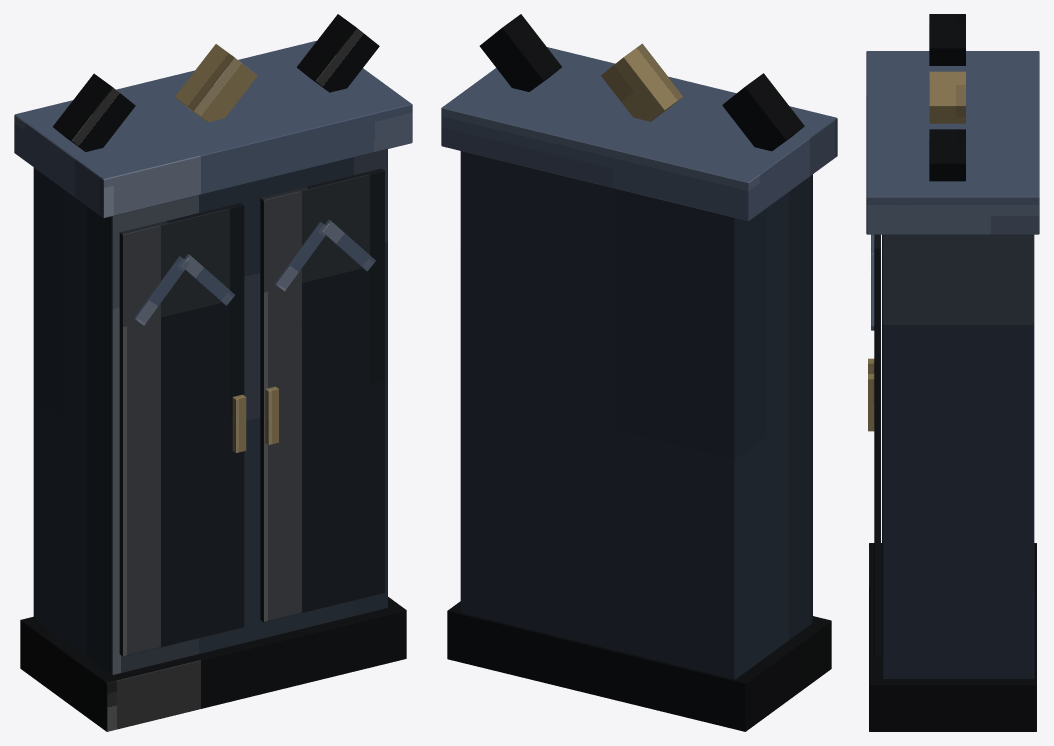
Rendered from gothic_wardrobe_midnight.glb.
3 renders of one model, left to right at view 1: azimuth 30°, elevation 25°; view 2: azimuth 150°, elevation 25°; view 3: azimuth 270°, elevation 25°, orthographic. The views are drawn at different scales.
Parts seen in each view (by area): view 1: WardrobeBody, WardrobeDoor_1, WardrobeDoor_2, WardrobeCrown, WardrobePlinth, CrownSpire0.0, CrownSpire-0.52, CrownSpire0.52, WardrobeArch_1Left, WardrobeArch_2Left, WardrobeArch_2Right, WardrobeArch_1Right (+2 smaller); view 2: WardrobeBody, WardrobeCrown, WardrobePlinth, CrownSpire0.0, CrownSpire0.52, CrownSpire-0.52; view 3: WardrobeBody, WardrobeCrown, WardrobePlinth, WardrobeDoor_2, CrownSpire0.0, CrownSpire0.52, CrownSpire-0.52, WardrobeHandle_2, WardrobeArch_2Right.
Part boxes in pixels (box(x1,y1,x2,y2)): WardrobeBody: box(33, 149, 387, 674); WardrobeDoor_1: box(119, 203, 244, 656); WardrobeDoor_2: box(260, 168, 384, 622); WardrobeCrown: box(14, 40, 412, 218); WardrobePlinth: box(20, 597, 406, 731); CrownSpire0.0: box(175, 44, 257, 122); CrownSpire-0.52: box(53, 73, 135, 151); CrownSpire0.52: box(296, 14, 379, 92); WardrobeArch_1Left: box(134, 256, 189, 325); WardrobeArch_2Left: box(274, 222, 326, 291); WardrobeArch_2Right: box(322, 219, 375, 271); WardrobeArch_1Right: box(181, 254, 235, 305); WardrobeBody: box(460, 151, 812, 679); WardrobeCrown: box(441, 47, 837, 221); WardrobePlinth: box(447, 601, 831, 731); CrownSpire0.0: box(601, 43, 683, 121); CrownSpire0.52: box(479, 14, 561, 91); CrownSpire-0.52: box(722, 73, 804, 151); WardrobeBody: box(882, 234, 1034, 678); WardrobeCrown: box(866, 51, 1039, 234); WardrobePlinth: box(869, 543, 1036, 731); WardrobeDoor_2: box(874, 234, 880, 656); CrownSpire0.0: box(929, 71, 965, 123); CrownSpire0.52: box(929, 129, 965, 181); CrownSpire-0.52: box(929, 14, 965, 65); WardrobeHandle_2: box(868, 374, 874, 431); WardrobeArch_2Right: box(871, 255, 874, 330).
Size of the model in its own units: 1.32 by 2.5 by 0.66.
Materials: 1 (1 with a texture image).
